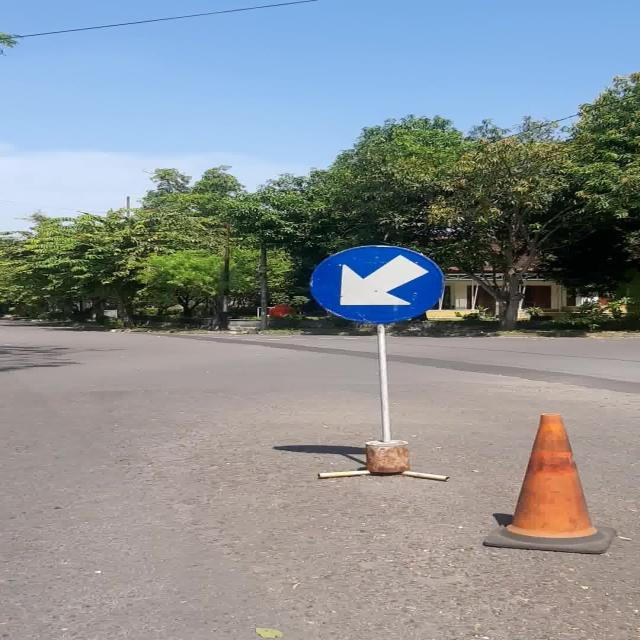Lajur Kiri: (310, 245, 444, 323)
